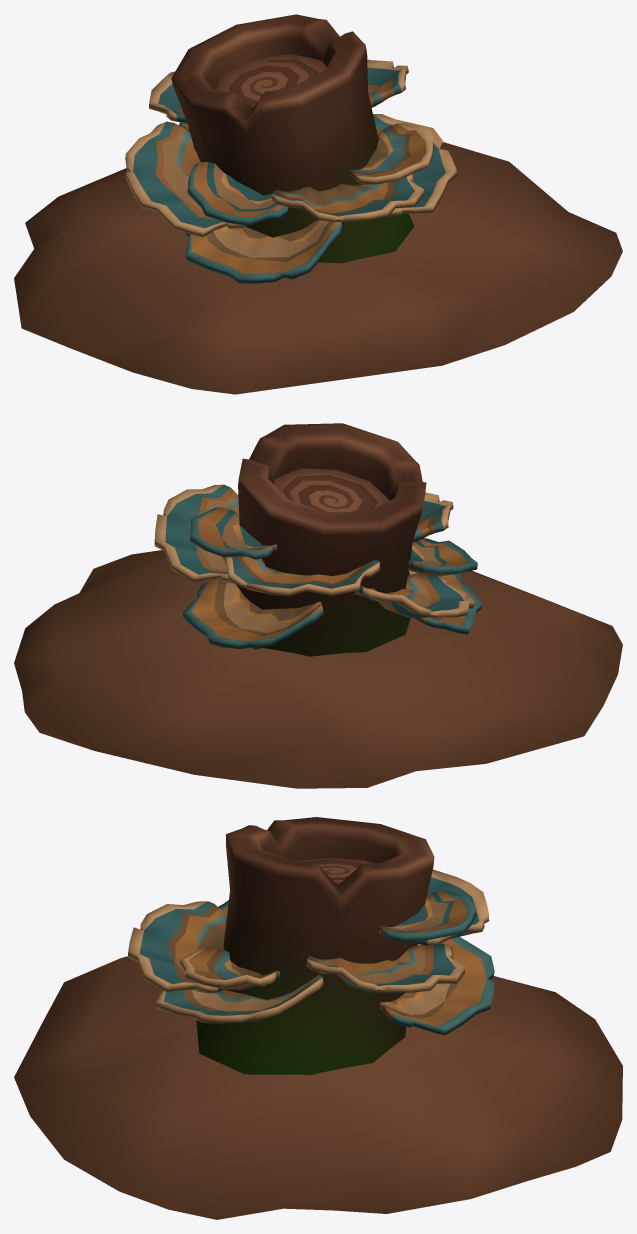
Rendered from SM_PlantSoil_TurkeyTail_Lv3.fbx.
3 renders of one model, top to bottom at view 1: azimuth 30°, elevation 25°; view 2: azimuth 150°, elevation 25°; view 3: azimuth 270°, elevation 25°, orthographic. The views are drawn at different scales.
Visible parts, largest first — view 1: SM_PlantSoil_TurkeyTail_Lv3; view 2: SM_PlantSoil_TurkeyTail_Lv3; view 3: SM_PlantSoil_TurkeyTail_Lv3.
Part boxes in pixels (box(x1,y1,x2,y2)): SM_PlantSoil_TurkeyTail_Lv3: box(14, 14, 622, 394); SM_PlantSoil_TurkeyTail_Lv3: box(14, 423, 622, 788); SM_PlantSoil_TurkeyTail_Lv3: box(14, 817, 622, 1219).
Bounding box in the file's own units: 118 × 51.64 × 106.
